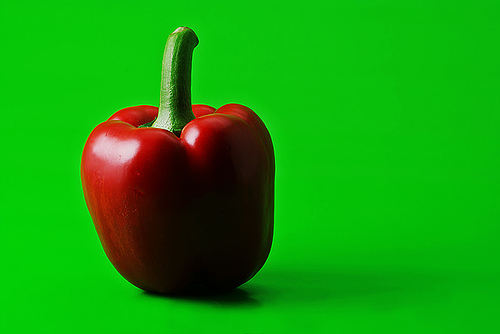capsicum: (78, 26, 276, 296)
